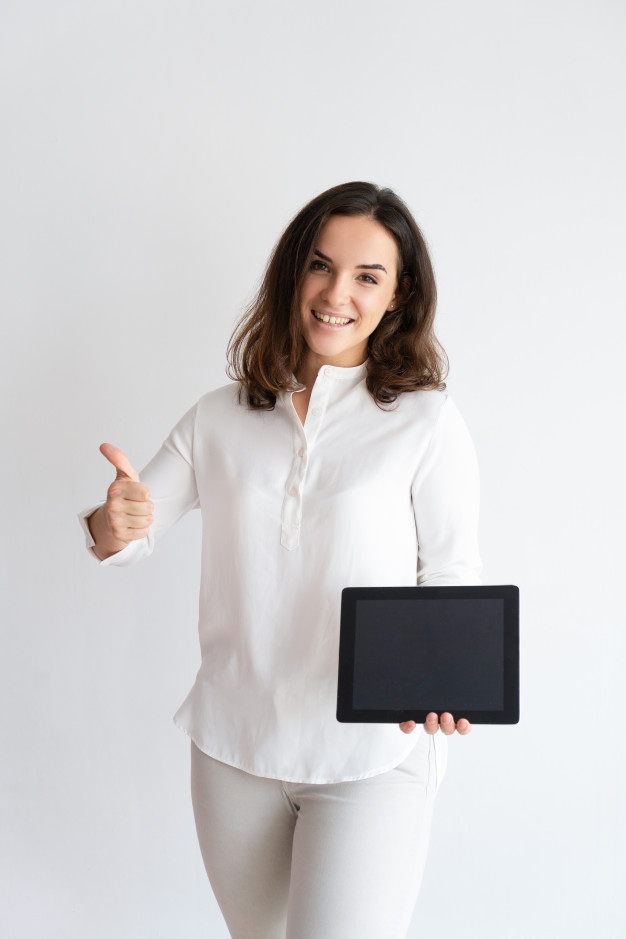thumbsup: (99, 443, 153, 542)
